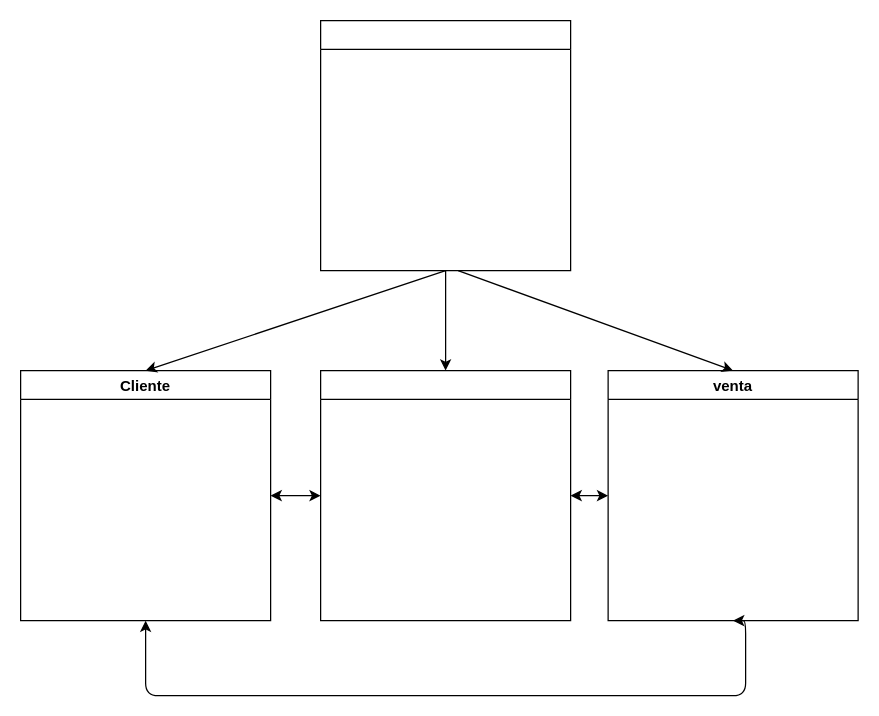
Some shapes in this 879 by 716 pixel diagram are drawn without their labels. Here are the shapes that lost their labels. From the top down, the box of each, then its label:
(319, 19, 571, 271): inicio
(319, 369, 571, 621): Producto
